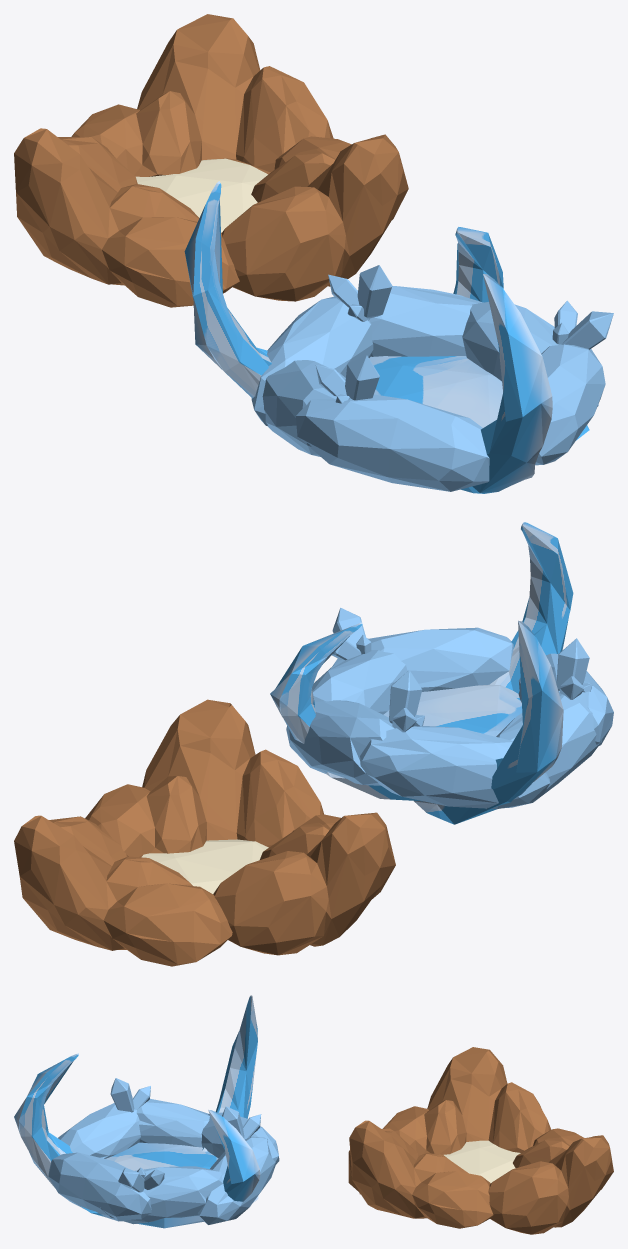
File: Egg Nest V2 (2).fbx
3 views of the same model, one above another, from view 1: azimuth 30°, elevation 25°; view 2: azimuth 150°, elevation 25°; view 3: azimuth 270°, elevation 25° (orthographic). The views are drawn at different scales.
Visible parts, largest first — view 1: Desert_Nest, Ice_Nest; view 2: Desert_Nest, Ice_Nest; view 3: Desert_Nest, Ice_Nest.
Boxes of the visible parts, x1,y1,x2,y2 form: Desert_Nest: (14,14,408,307); Ice_Nest: (184,181,613,493); Desert_Nest: (14,699,395,966); Ice_Nest: (270,522,613,824); Desert_Nest: (348,1047,613,1234); Ice_Nest: (14,995,279,1228).
Bounding box in the file's own units: 22.39 × 15.66 × 50.61.
